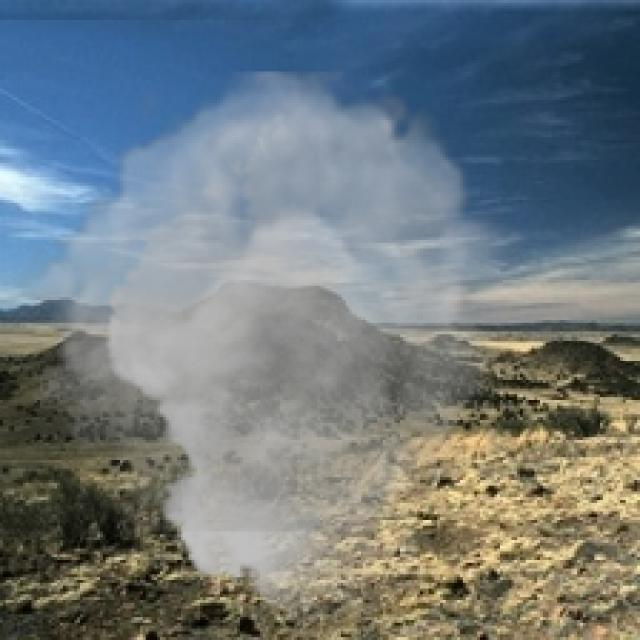Smoke: (11, 71, 526, 623)
